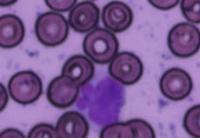M: (74, 73, 127, 129)
